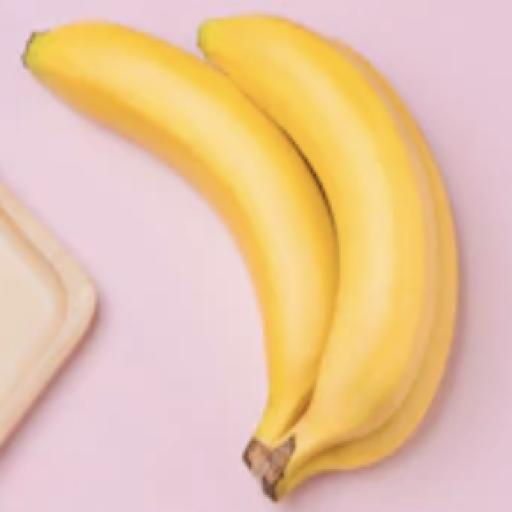banana: (23, 22, 337, 441), (200, 16, 443, 496), (276, 44, 459, 499)
